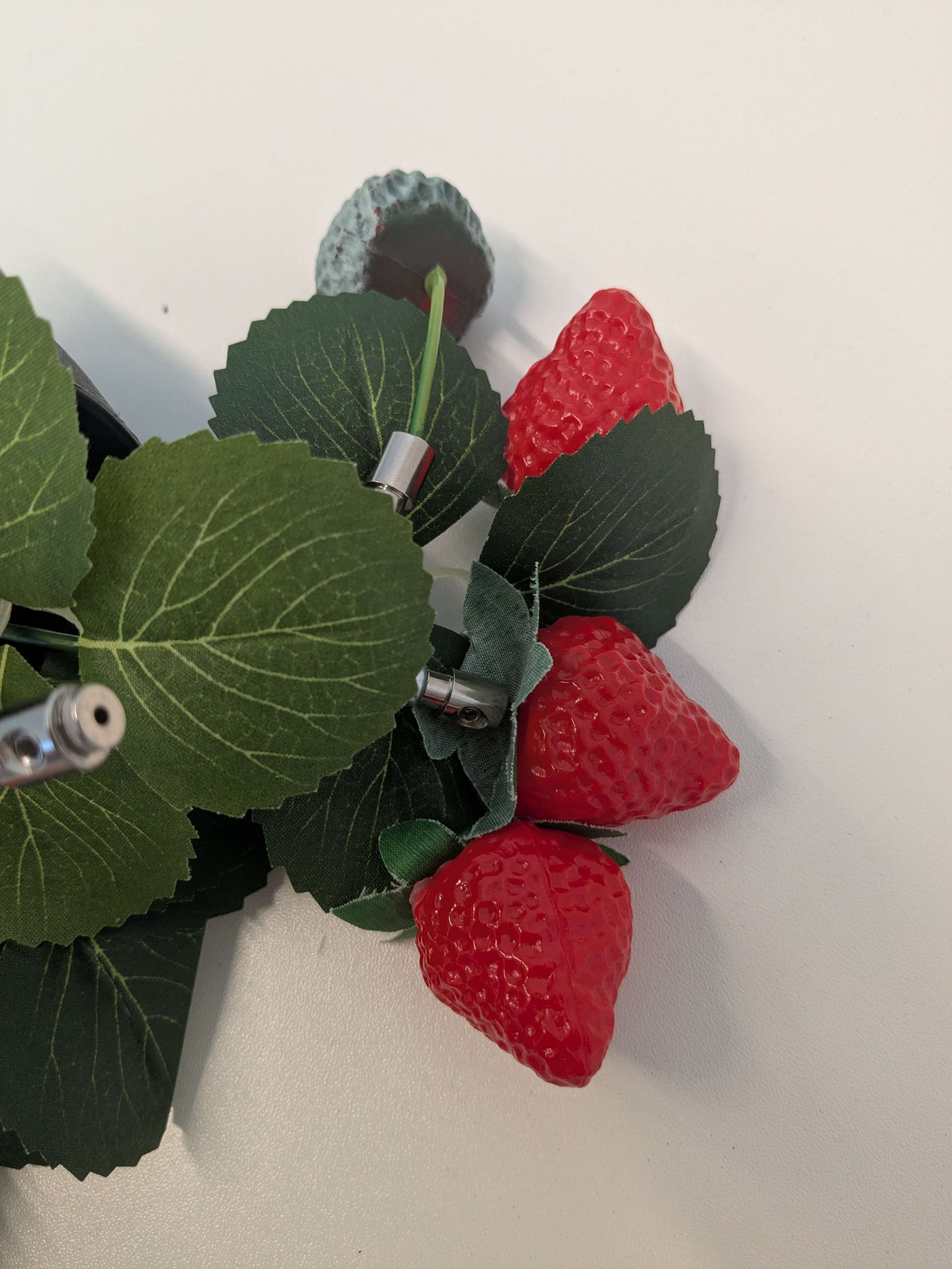Strawberry: (407, 817, 636, 1105), (496, 616, 762, 837), (496, 248, 703, 524)
